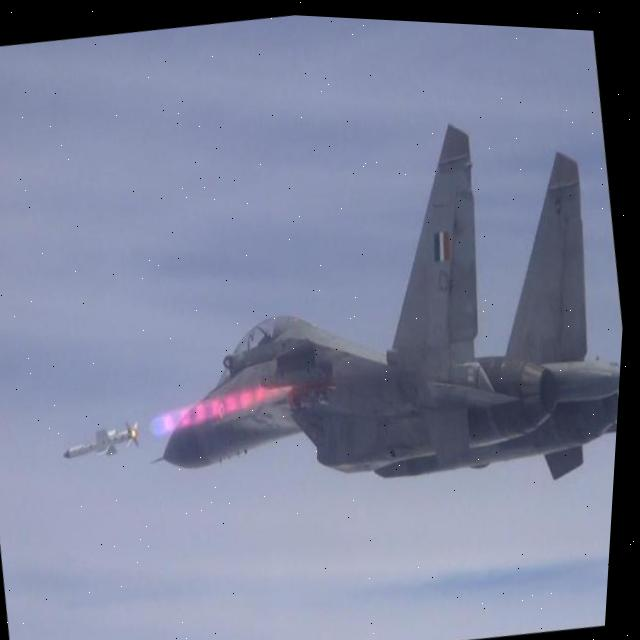missile: (60, 419, 145, 469)
